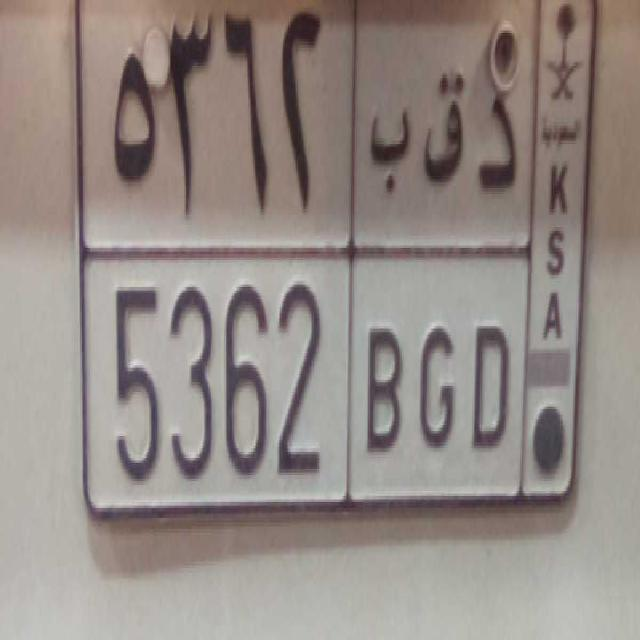license_plate: (95, 250, 517, 519)
